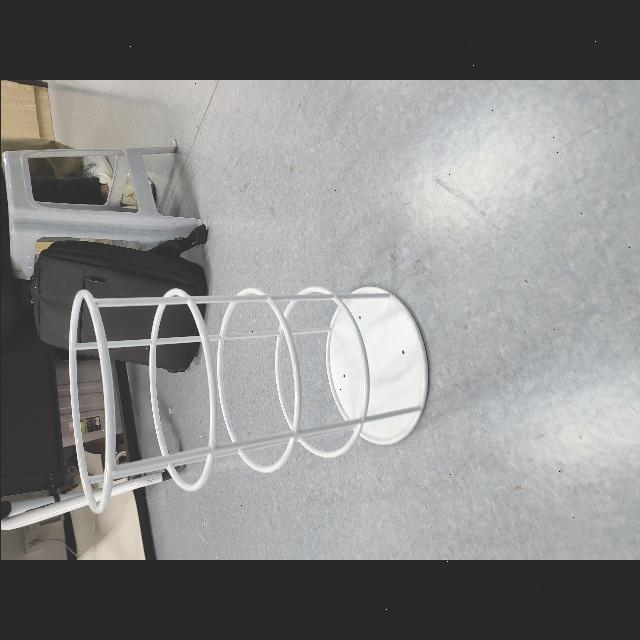S: (63, 283, 431, 519)
